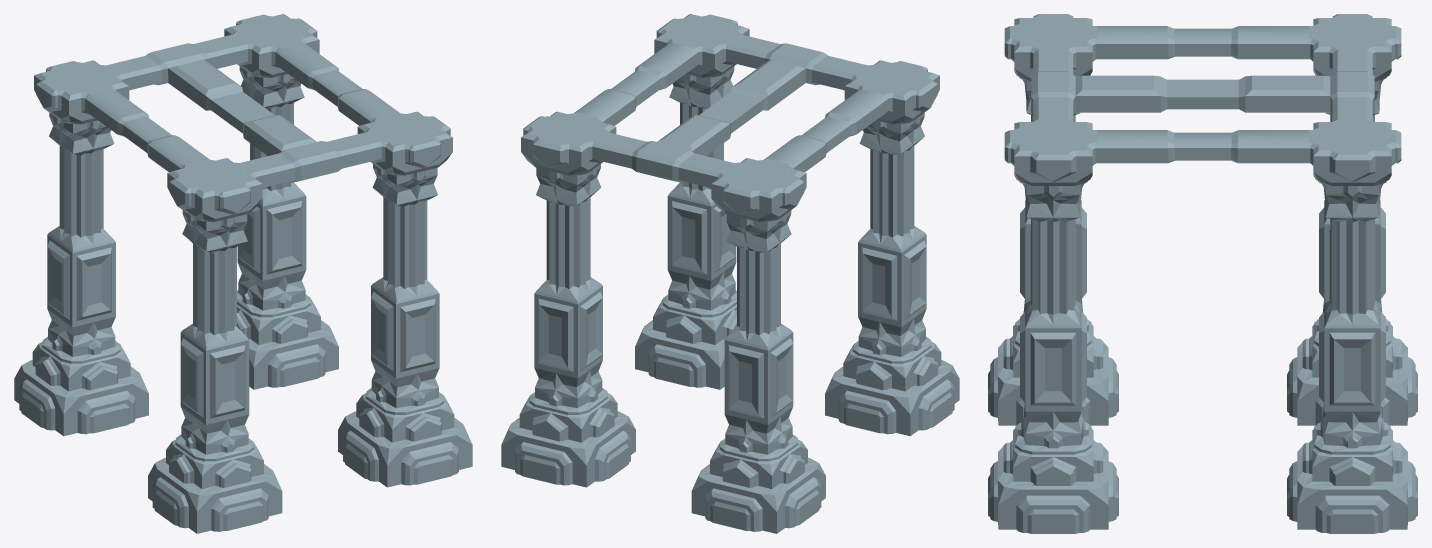
File: columns.FBX
3 views of the same model, side by side, from view 1: azimuth 30°, elevation 25°; view 2: azimuth 150°, elevation 25°; view 3: azimuth 270°, elevation 25° (orthographic). The views are drawn at different scales.
Parts seen in each view (by area): view 1: columns; view 2: columns; view 3: columns.
Part boxes in pixels (x1=…): columns: x1=14, y1=14, x2=472, y2=533; columns: x1=501, y1=14, x2=959, y2=533; columns: x1=988, y1=14, x2=1417, y2=533.
Bounding box in the file's own units: 570 × 621 × 650.
